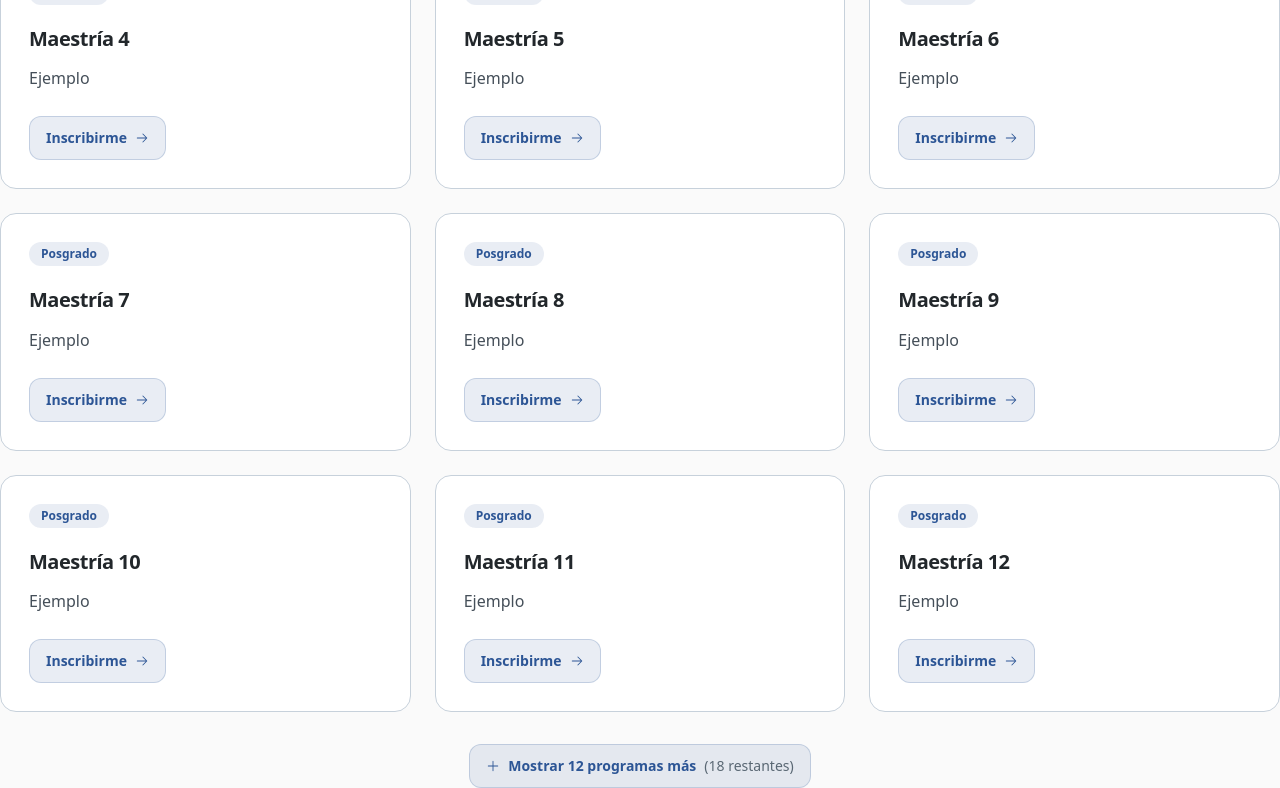
Test: paginación del catálogo › vuelve a la primera página al cambiar los filtros
This screenshot has width=1280, height=788.
(page scrolled)
Click the button "Mostrar 12 programas más (18 restantes)" at (640, 766), box left=469, top=744, right=811, bottom=787
(page scrolled)
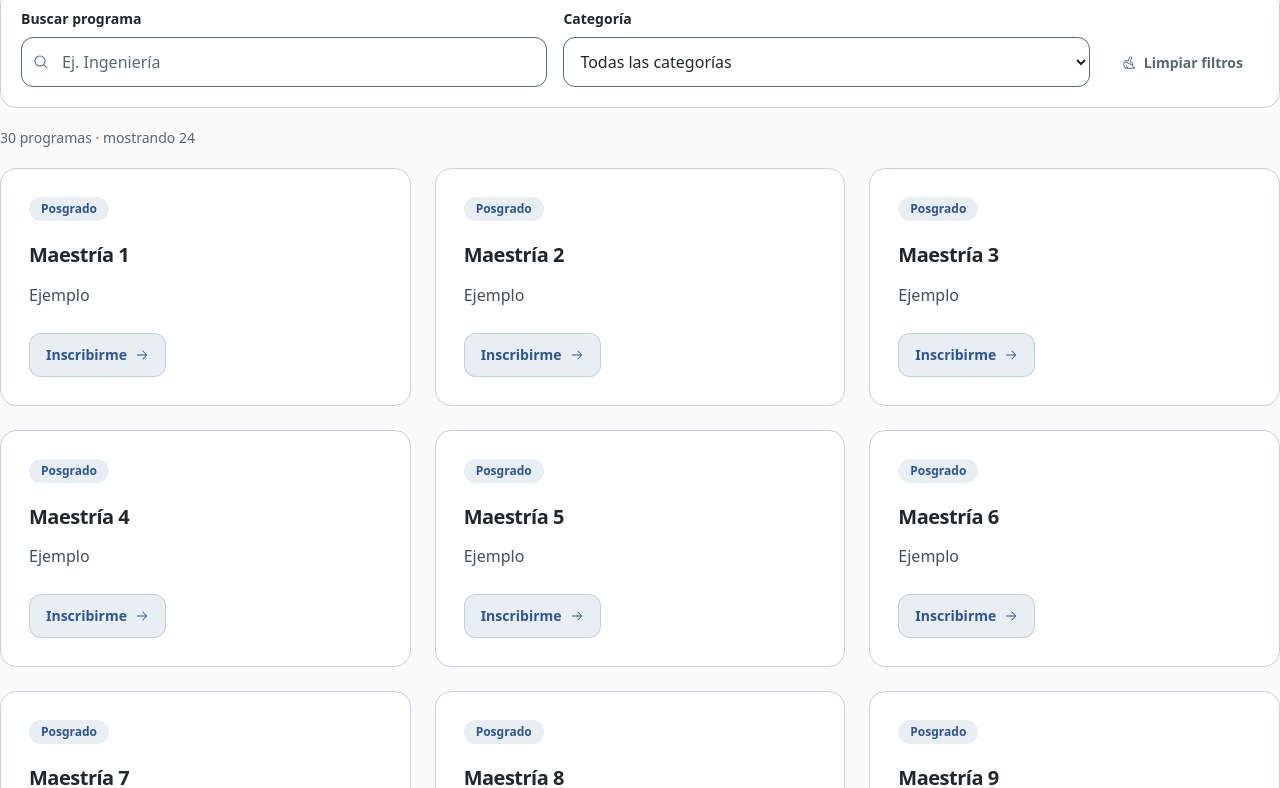
Select "Posgrado (20)" in the dropdown labelled "Categoría" at (827, 62), box left=563, top=37, right=1090, bottom=87
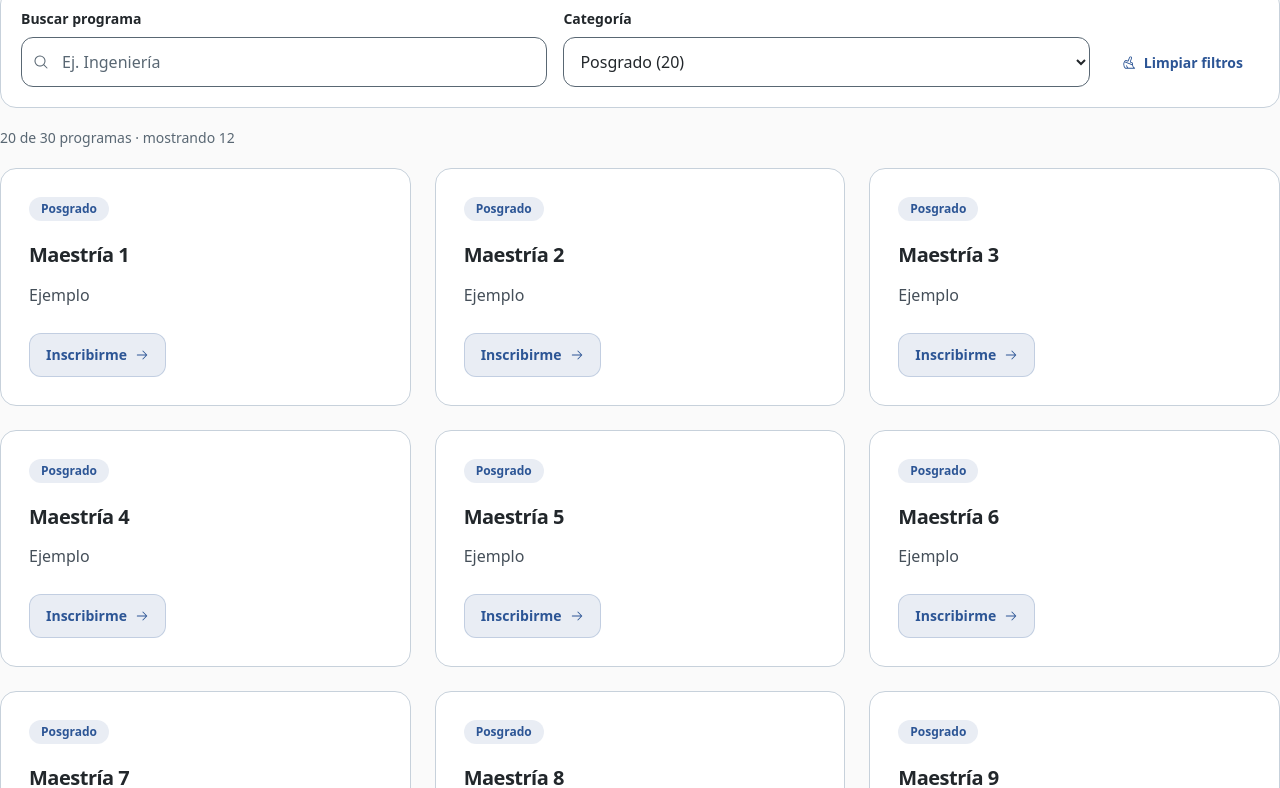
Expected: the text "20 de 30 programas · mostrando 12" is shown, left=0, top=128, right=235, bottom=147
